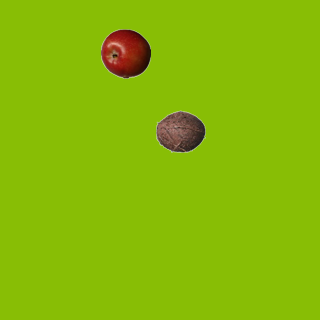Apple Braeburn: (100, 28, 150, 78)
Cocos: (155, 106, 205, 156)
